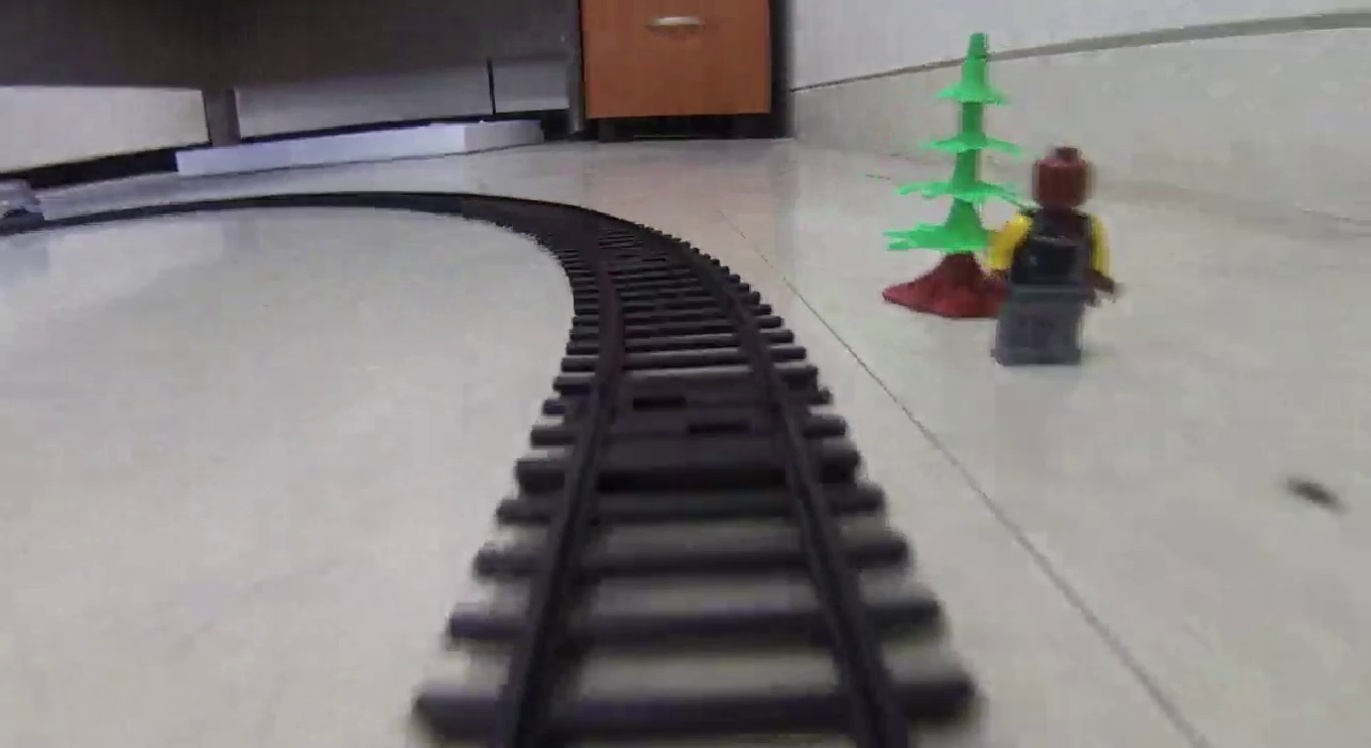people: (993, 144, 1114, 370)
tree: (881, 32, 1023, 312)
